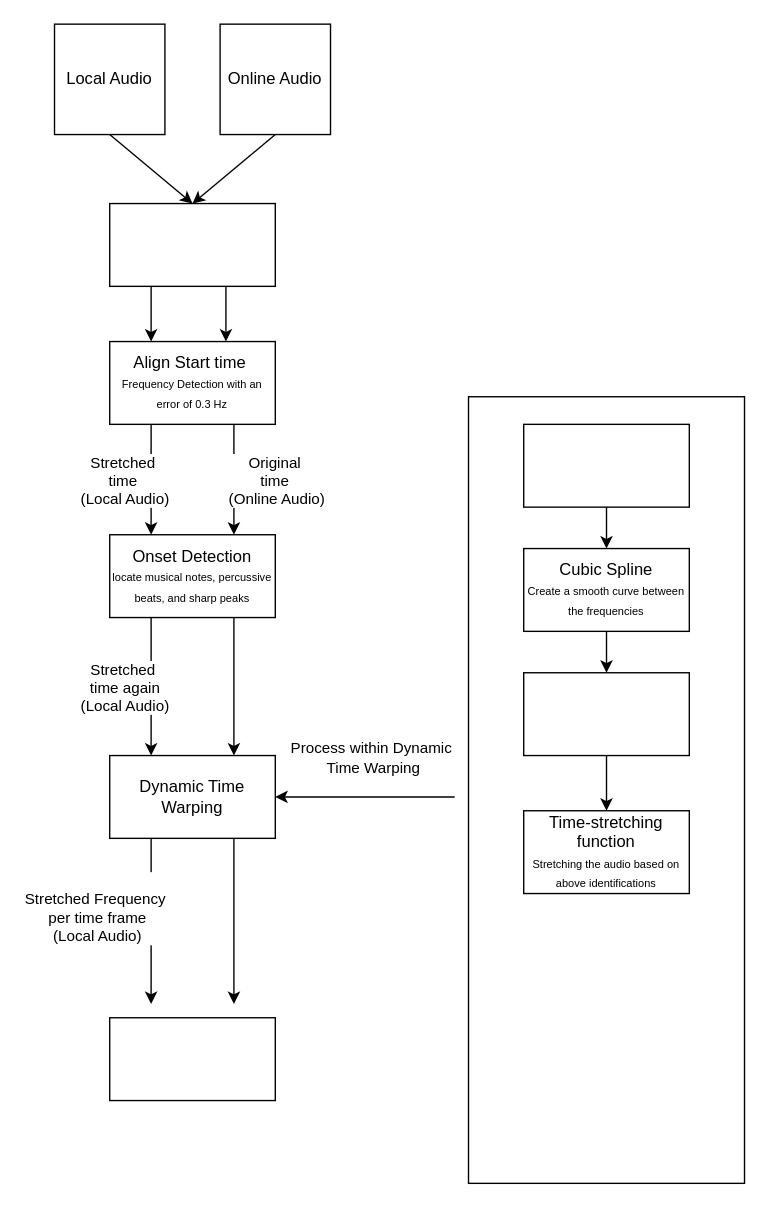
This 769x1208 diagram has some shape labels left out. Each missing label, with the centre of its shape:
"Determine which algorithm" goes at (191,1058).
"Distinguish Harmony" goes at (191,244).
"Pace Ratios Identifies the frequency needed to be stretched" goes at (605,465).
"Time-warping function Identify the time domain corresponding the frequency" goes at (605,713).
